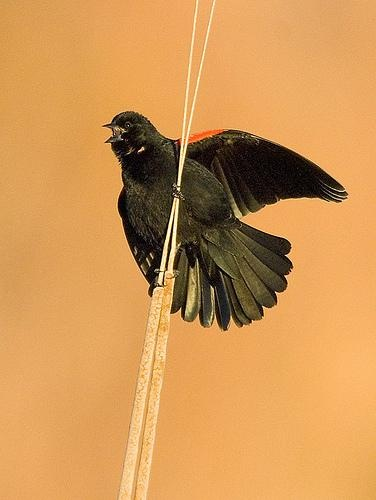bird: (95, 107, 349, 331)
